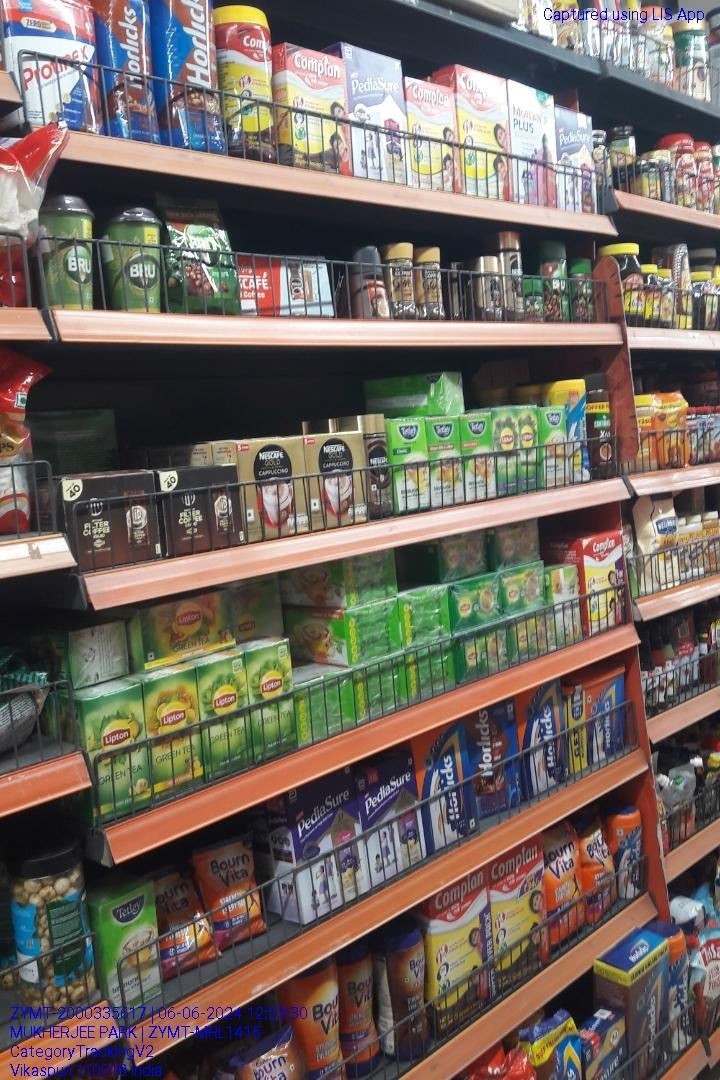BOURN_VITA_75_G_POUCH: (153, 867, 206, 978), (208, 838, 259, 950)
BOURN_VITA_FIVE_STAR_MAGIC_500_G_JAR: (387, 926, 427, 1060)
COMPLAN_CHOCOLATE_200_GMS_PACK: (286, 45, 348, 173)
COMPLAN_CHOCOLATE_500_GMS_JAR: (229, 1, 281, 159)
COMPLAN_CREAMY_CLASSIC_500_G_PACK: (459, 64, 514, 201)
COMPLAN_KESAR_BADAM_200_GMS_PACK: (406, 77, 459, 194)
HORLICK_CHOCOLATE_1_KG_JAR: (161, 0, 228, 154), (102, 0, 159, 145)
HORLICK_MALT_1_KG_CONTAINER: (567, 677, 628, 767)
PEDIASURE_CHOCOLATE_500_G_PACK: (555, 105, 597, 213)
PEDIASURE_VANILLA_500_G_PACK: (346, 44, 408, 180)
PROTINEX_CHOCOLATE_400_G_JAR: (5, 0, 101, 141)
